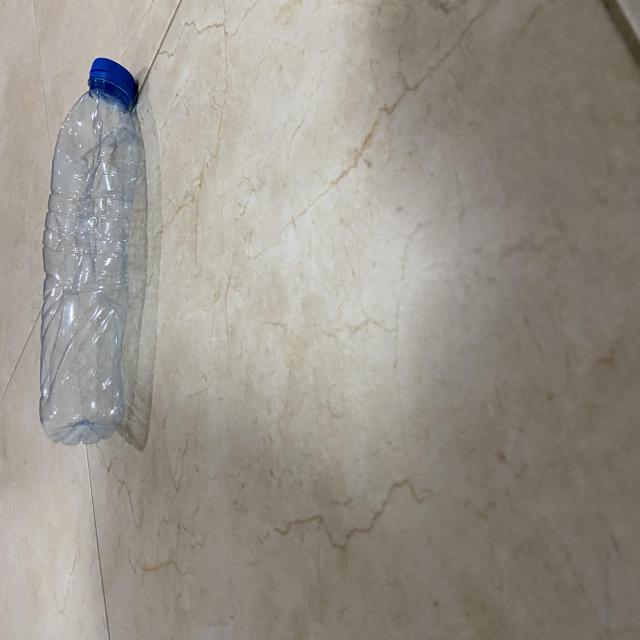plastic: (37, 53, 146, 453)
